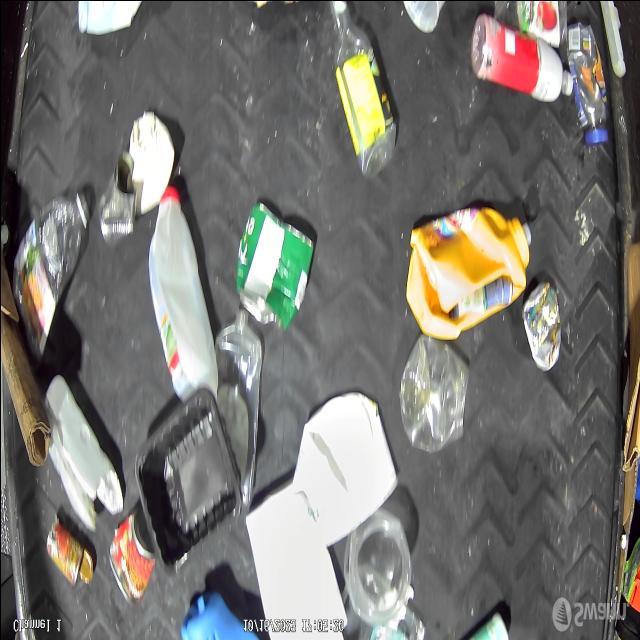can: (238, 200, 317, 332), (109, 514, 155, 607), (36, 528, 96, 586)
milk_jug: (148, 178, 222, 400), (244, 499, 342, 640), (294, 394, 392, 526), (52, 382, 118, 533)
non_white_jug: (396, 196, 538, 346)
plastic_bottle: (334, 0, 396, 182), (218, 310, 260, 510)
